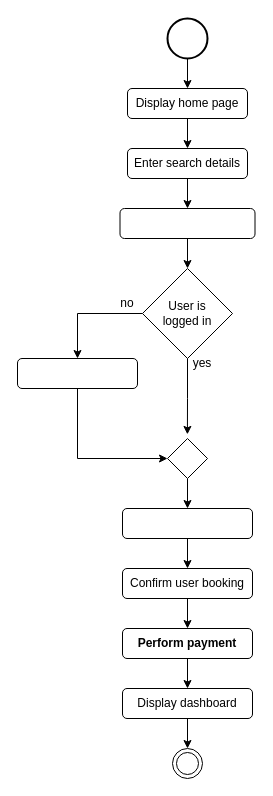
This 273x796 diagram has some shape labels left out. The centre of each missing label's shape, as x and y in pixels:
Display available flights: the point at 187,223
Display available seats: the point at 187,523
Perform login: the point at 77,373
